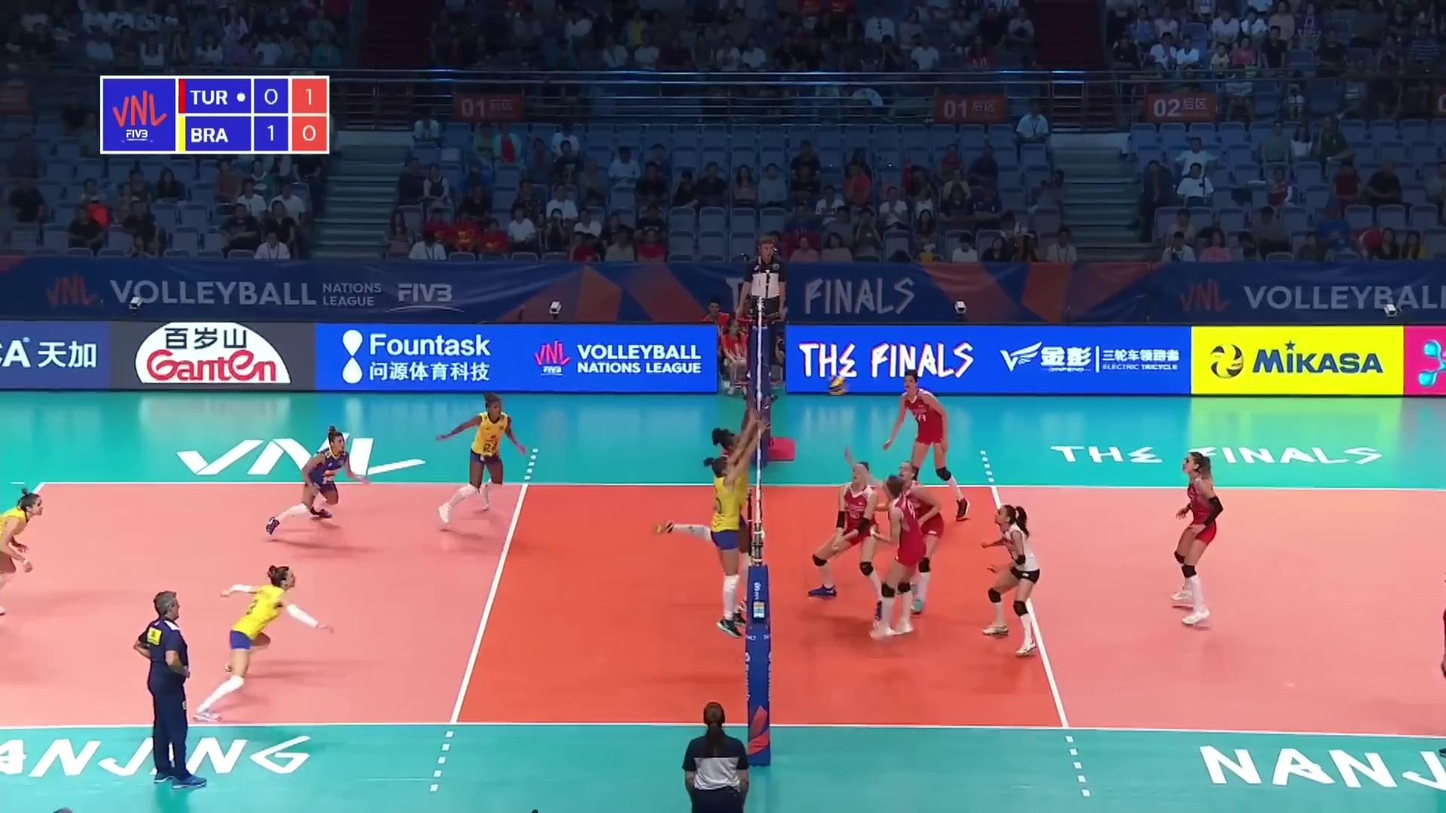player: (658, 428, 746, 626), (211, 569, 305, 723), (708, 410, 769, 639), (888, 371, 966, 531), (809, 462, 889, 599), (268, 426, 365, 538), (1174, 453, 1234, 628), (440, 399, 521, 526), (972, 505, 1039, 651), (877, 474, 926, 639), (889, 462, 940, 613), (0, 492, 44, 623)
refree: (682, 703, 747, 813), (740, 239, 784, 379)
